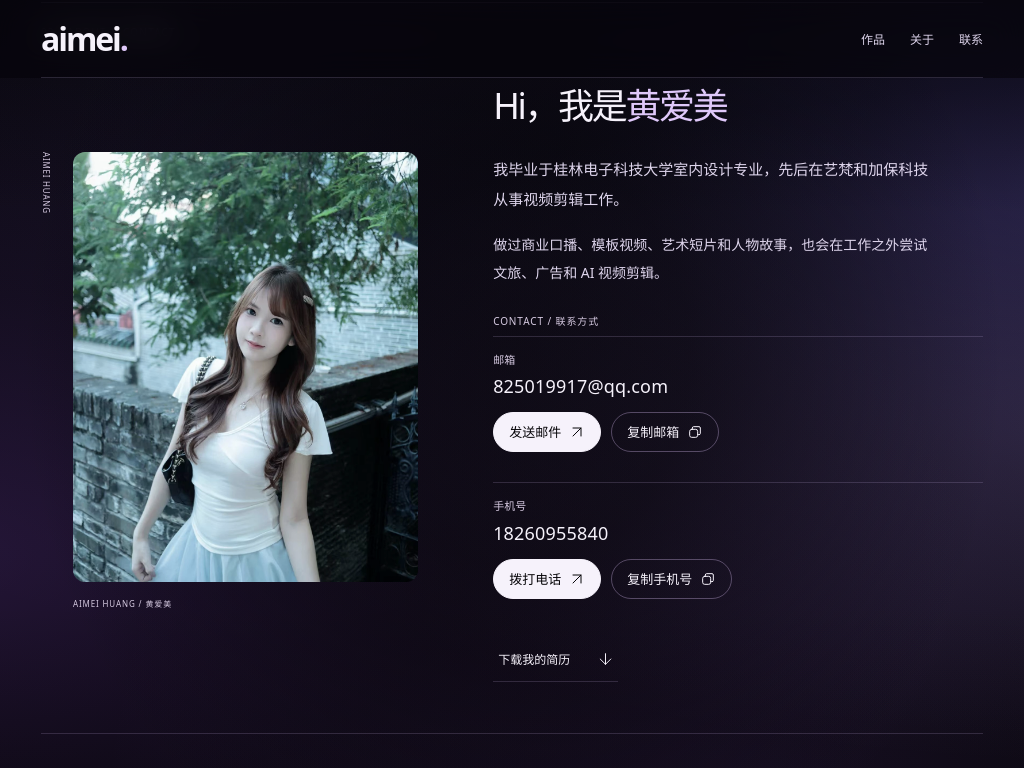
Scenario: 求职联系 › 邮箱复制成功有明确反馈
(page scrolled)
What coordinates should you click on to do the following:
click the button "复制邮箱"
I would click on:
 (665, 432)
Its box is [611,412,719,452].
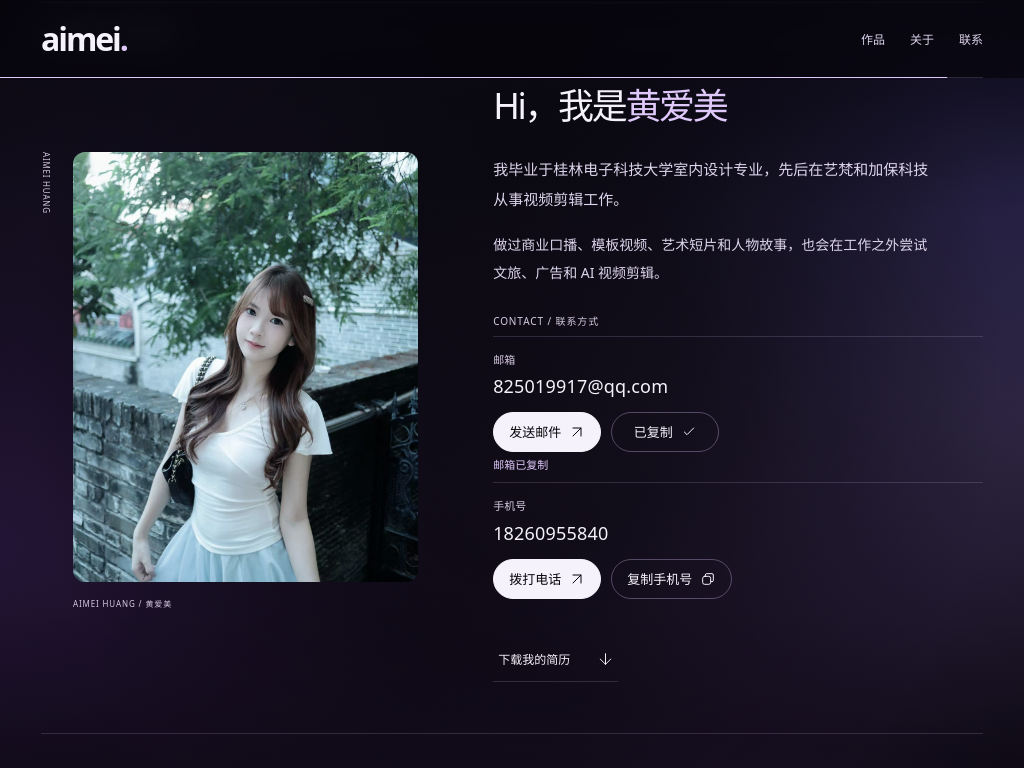
Result: the text "邮箱已复制" is shown at [493,457,548,472]
